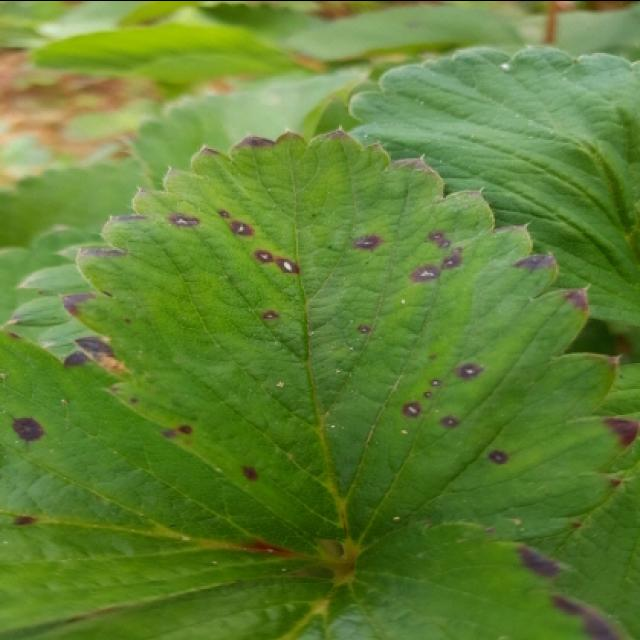Leaf Spot: (59, 124, 638, 557), (0, 328, 334, 634)
